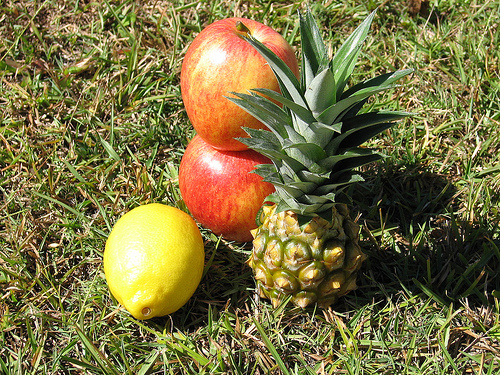pineapple: (227, 7, 415, 317)
